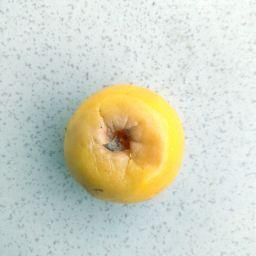Unripe: (63, 83, 185, 202)
